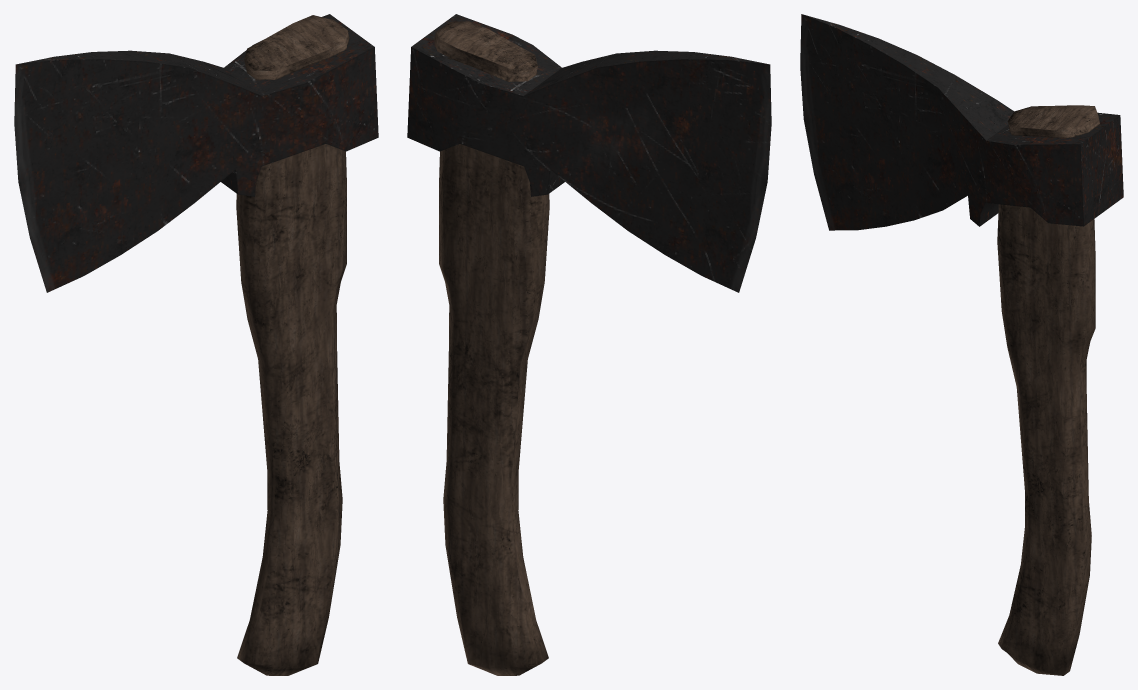
File: axe_1.fbx
3 views of the same model, side by side, from view 1: azimuth 30°, elevation 25°; view 2: azimuth 150°, elevation 25°; view 3: azimuth 330°, elevation 25° (orthographic). The views are drawn at different scales.
Visible parts, largest first — view 1: mesh1, mesh2; view 2: mesh1, mesh2; view 3: mesh1, mesh2.
Boxes of the visible parts, left/top/right/bottom form: mesh1: left=14, top=14, right=378, bottom=292; mesh2: left=236, top=15, right=349, bottom=675; mesh1: left=407, top=14, right=771, bottom=292; mesh2: left=434, top=21, right=549, bottom=675; mesh1: left=800, top=14, right=1123, bottom=230; mesh2: left=997, top=105, right=1099, bottom=675.
Bounding box in the file's own units: 302 × 570 × 80.28.
2 materials, 2 textured.
